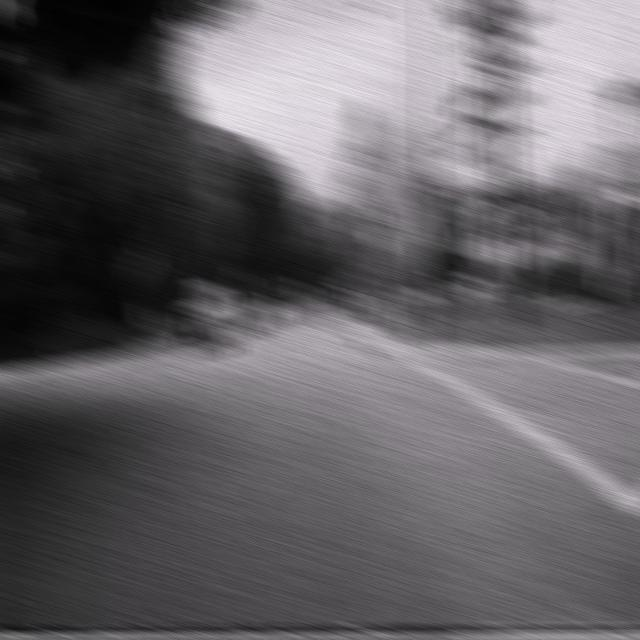pedestrianCrossing: (400, 203, 436, 253)
